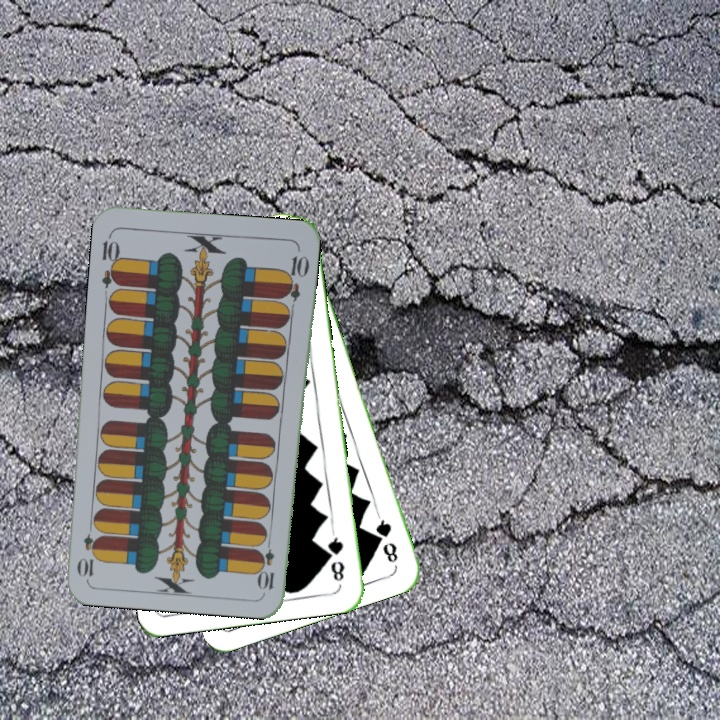E10: (98, 230, 124, 289), (258, 533, 277, 592)
G8: (372, 511, 401, 566), (324, 528, 347, 584)
